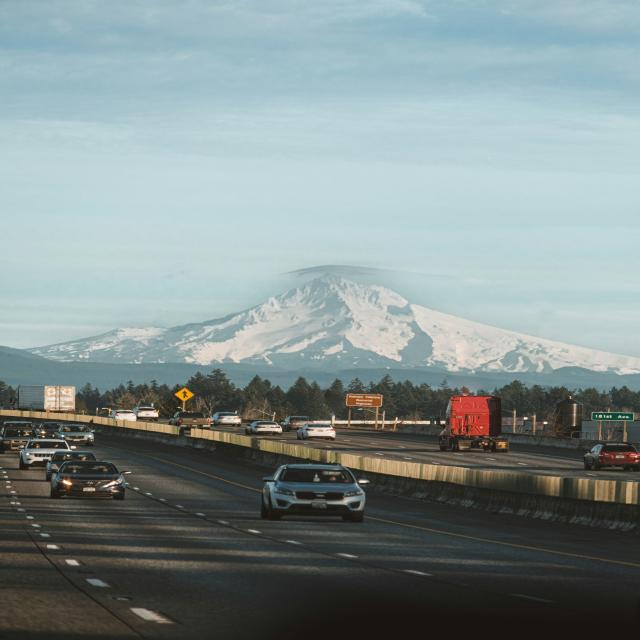16-Wheelers: (438, 395, 510, 453)
Car: (260, 463, 370, 522), (50, 461, 132, 500), (18, 439, 76, 468), (582, 443, 640, 471), (45, 451, 97, 482), (52, 424, 94, 446), (296, 422, 336, 441), (245, 420, 283, 436), (280, 416, 312, 431), (209, 412, 241, 426), (132, 406, 159, 422), (36, 422, 63, 438), (109, 410, 136, 421)
